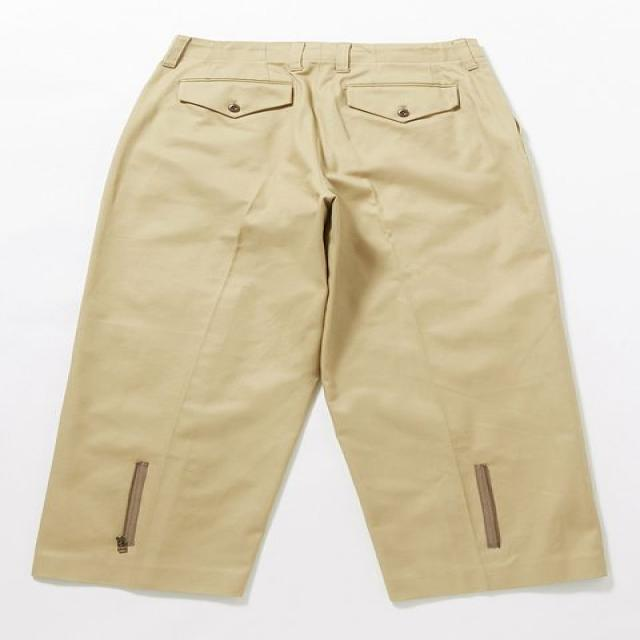long-pants: (32, 32, 609, 607)
